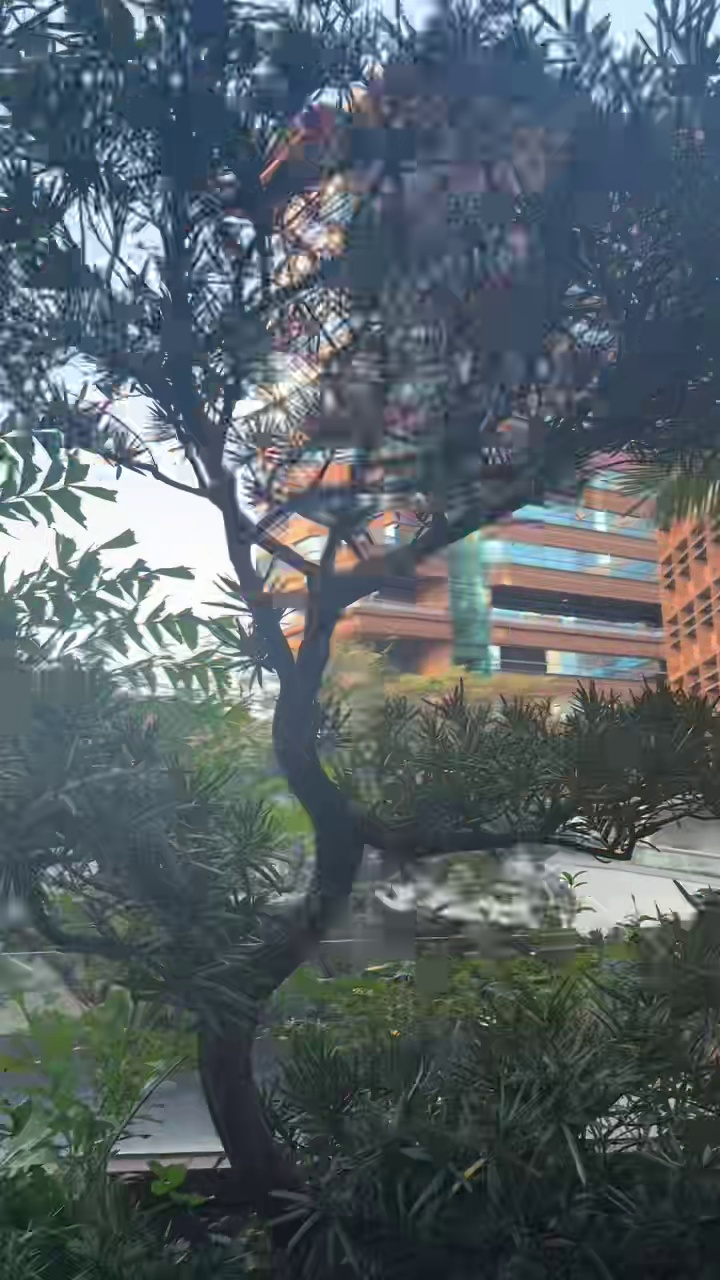Podocarpus macrophyllus: (10, 0, 719, 1203)
